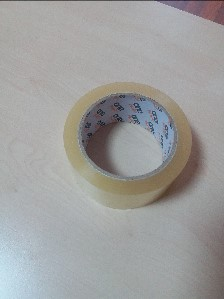band: (66, 85, 193, 208)
